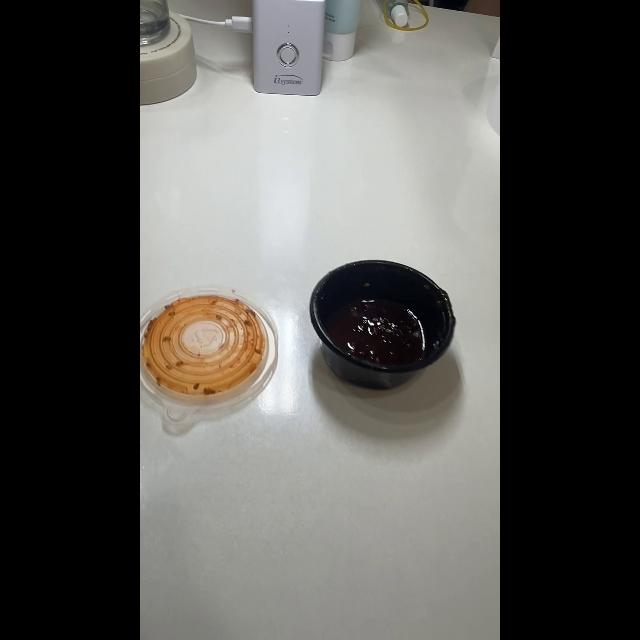dirty: (308, 260, 456, 390), (142, 295, 268, 397)
